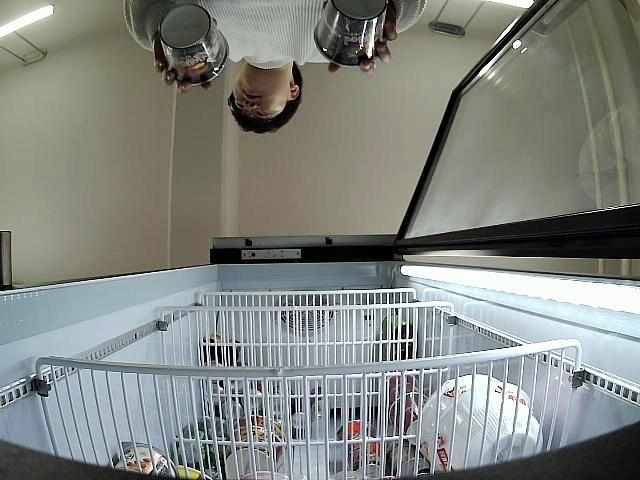00_hand: (328, 6, 396, 74), (151, 41, 212, 94)
08_buldak_S: (159, 5, 229, 87), (314, 0, 387, 66)
